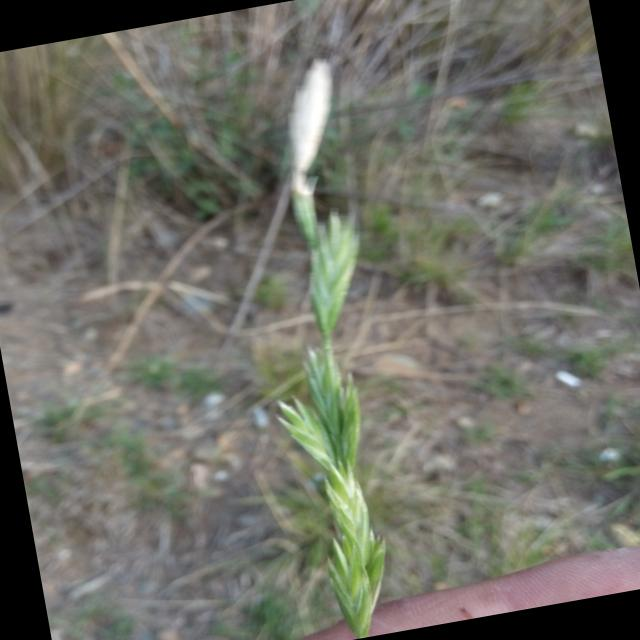Lolium: (210, 53, 438, 640)
